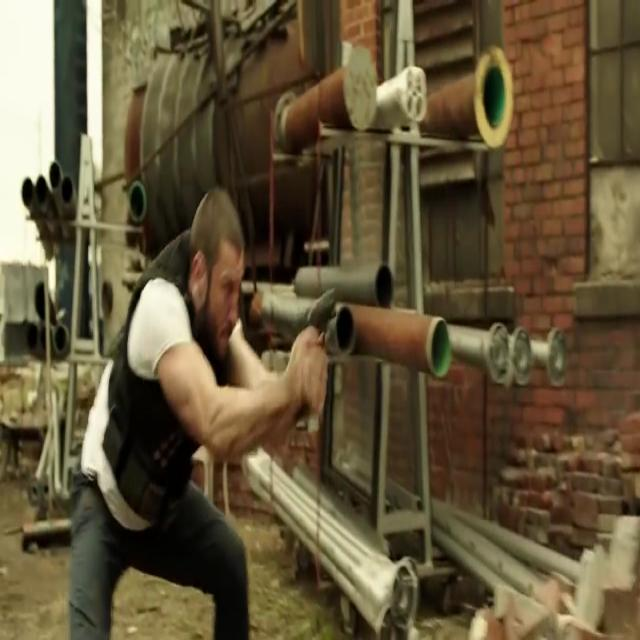Weapon: (294, 286, 340, 434)
